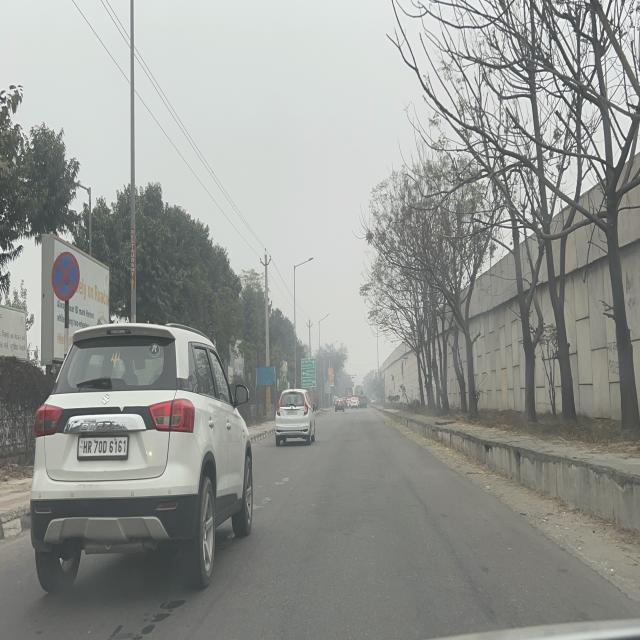GENERAL: (301, 358, 316, 388)
NO_STOPPING_OR_STANDING: (51, 251, 80, 301)
